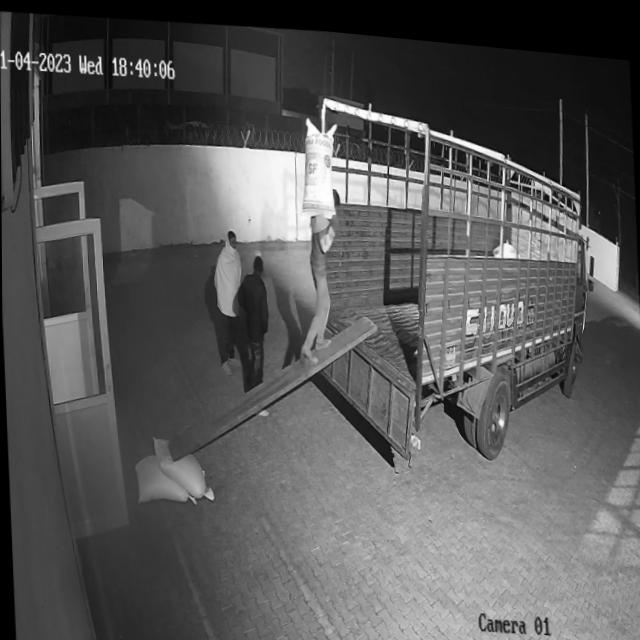sack: (297, 109, 340, 213), (150, 431, 206, 497), (133, 447, 189, 502)
